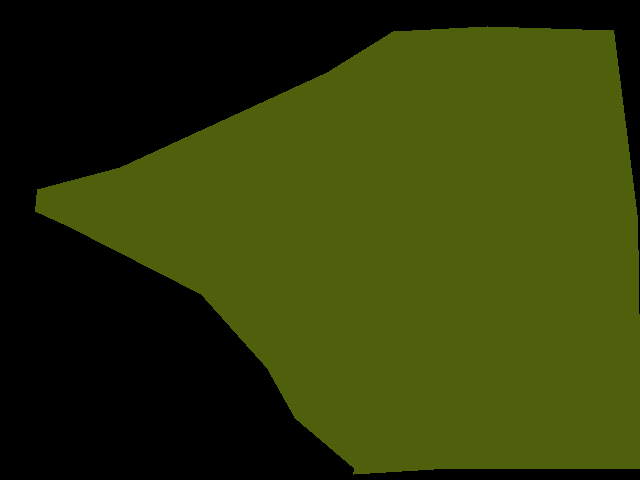Train: (35, 26, 640, 474)
